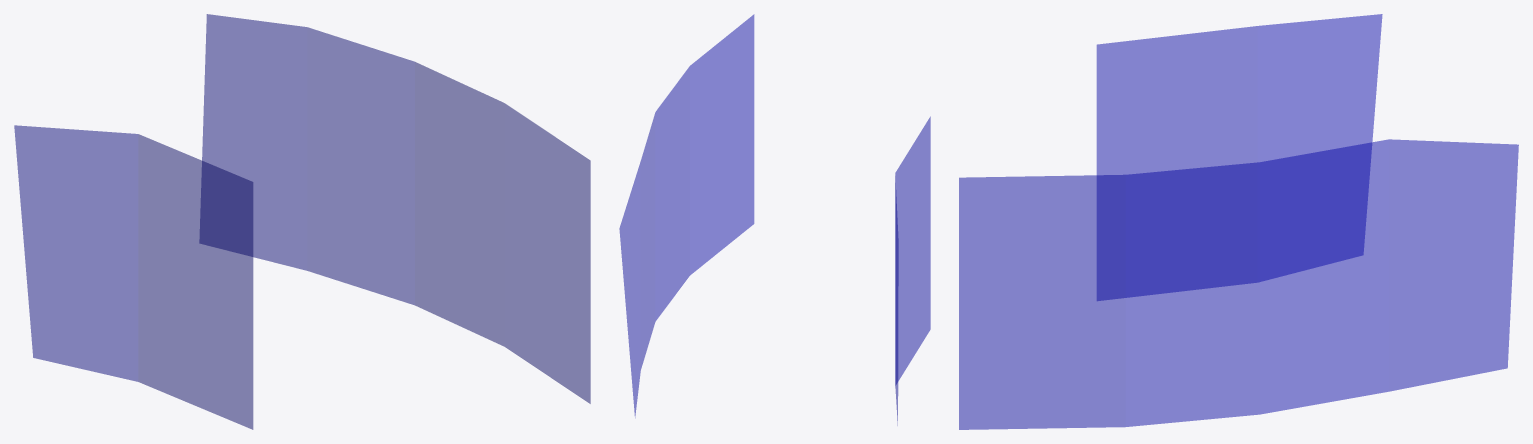
The model's file is track_military_coll_wall_37.fbx.
The picture shows the model from 3 angles, left to right: view 1: azimuth 30°, elevation 25°; view 2: azimuth 150°, elevation 25°; view 3: azimuth 270°, elevation 25°; orthographic projection. The views are drawn at different scales.
Parts seen in each view (by area): view 1: track_military_coll_wall_37; view 2: track_military_coll_wall_37; view 3: track_military_coll_wall_37.
Part boxes in pixels (x1=…): track_military_coll_wall_37: x1=14, y1=14, x2=590, y2=429; track_military_coll_wall_37: x1=619, y1=14, x2=930, y2=425; track_military_coll_wall_37: x1=959, y1=14, x2=1518, y2=429.
Bounding box in the file's own units: 53.19 × 34.4 × 66.95.
